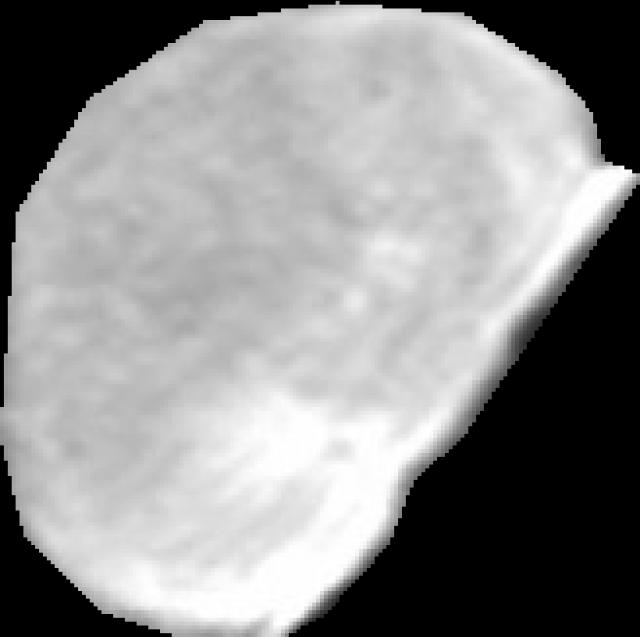tumor_moderate_chance: (0, 1, 640, 637)
